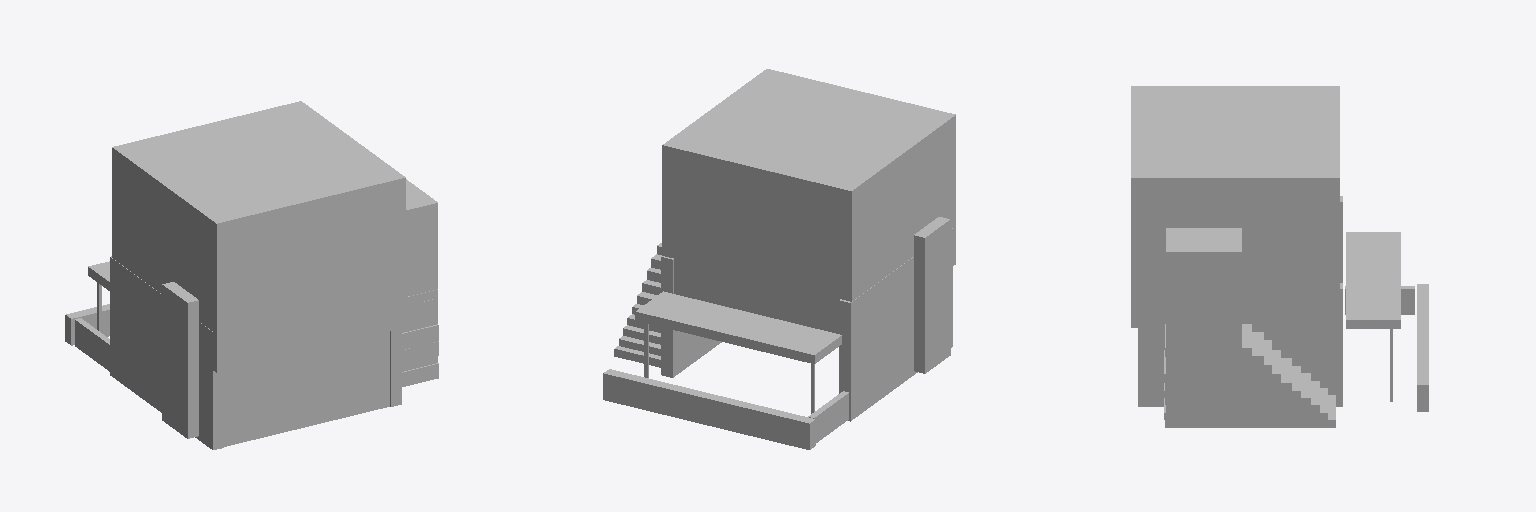
Rendered from house0_bBox.obj.
The picture shows the model from 3 angles: view 1: azimuth 30°, elevation 25°; view 2: azimuth 150°, elevation 25°; view 3: azimuth 270°, elevation 25°; orthographic projection.
Visible parts, largest first — view 1: Cube.000_Cube.007, Cube.006_Cube.012, Cube.001_Cube.002, Cube.004_Cube.009, Cube.022_Cube.028, Cube.005_Cube.010, Cube.009_Cube.015, Cube.003_Cube.004; view 2: Cube.000_Cube.007, Cube.001_Cube.002, Cube.003_Cube.004, Cube.007_Cube.013, Cube.004_Cube.009, Cube.009_Cube.015, Cube.005_Cube.010; view 3: Cube.000_Cube.007, Cube.022_Cube.028, Cube.009_Cube.015, Cube.007_Cube.013, Cube.011_Cube.017, Cube.003_Cube.004, Cube.013_Cube.019, Cube.012_Cube.018, Cube.017_Cube.023, Cube.016_Cube.022, Cube.014_Cube.020, Cube.015_Cube.021 (+4 smaller).
Part boxes in pixels (bbox=[...]): Cube.000_Cube.007: bbox=[112, 101, 405, 372]; Cube.006_Cube.012: bbox=[224, 331, 389, 446]; Cube.001_Cube.002: bbox=[110, 256, 223, 449]; Cube.004_Cube.009: bbox=[162, 282, 198, 438]; Cube.022_Cube.028: bbox=[406, 179, 437, 296]; Cube.005_Cube.010: bbox=[75, 318, 109, 371]; Cube.009_Cube.015: bbox=[390, 328, 401, 406]; Cube.003_Cube.004: bbox=[65, 304, 109, 345]; Cube.000_Cube.007: bbox=[662, 69, 955, 333]; Cube.001_Cube.002: bbox=[839, 228, 952, 421]; Cube.003_Cube.004: bbox=[603, 369, 815, 449]; Cube.007_Cube.013: bbox=[635, 291, 841, 363]; Cube.004_Cube.009: bbox=[914, 217, 950, 373]; Cube.009_Cube.015: bbox=[661, 256, 721, 377]; Cube.005_Cube.010: bbox=[808, 391, 848, 442]; Cube.000_Cube.007: bbox=[1131, 86, 1339, 327]; Cube.022_Cube.028: bbox=[1166, 228, 1241, 338]; Cube.009_Cube.015: bbox=[1138, 283, 1342, 406]; Cube.007_Cube.013: bbox=[1346, 232, 1400, 328]; Cube.011_Cube.017: bbox=[1165, 395, 1335, 427]; Cube.003_Cube.004: bbox=[1417, 284, 1428, 411]; Cube.013_Cube.019: bbox=[1166, 381, 1319, 412]; Cube.012_Cube.018: bbox=[1164, 388, 1327, 419]; Cube.017_Cube.023: bbox=[1164, 350, 1280, 382]; Cube.016_Cube.022: bbox=[1165, 358, 1291, 390]; Cube.014_Cube.020: bbox=[1165, 373, 1310, 404]; Cube.015_Cube.021: bbox=[1164, 366, 1300, 397].
Size of the model in its own units: 104 by 90.7 by 107.